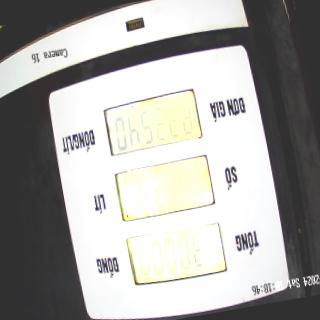screen: (99, 85, 230, 291)
